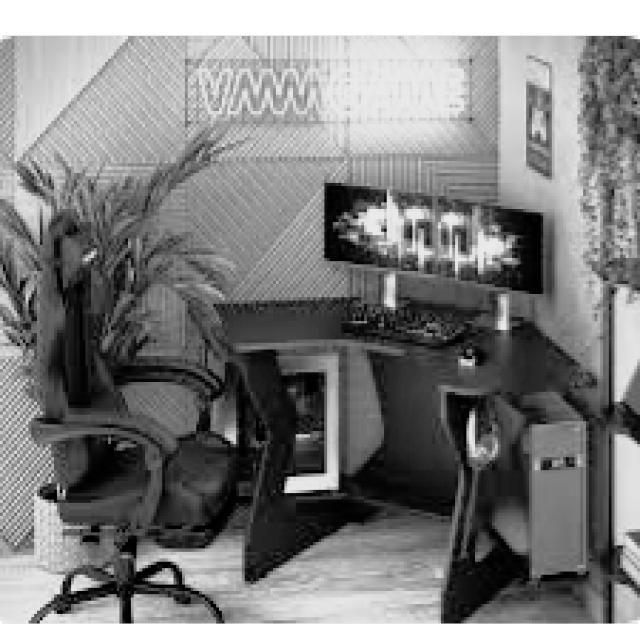book: (26, 206, 236, 620)
table: (205, 294, 597, 620)
